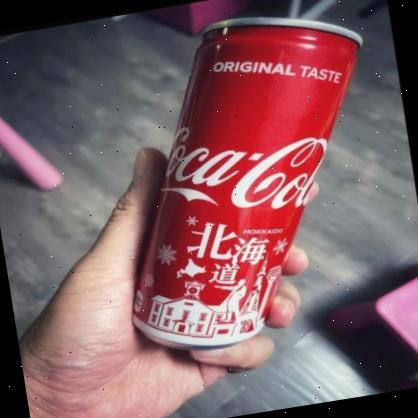can: (85, 0, 408, 360)
